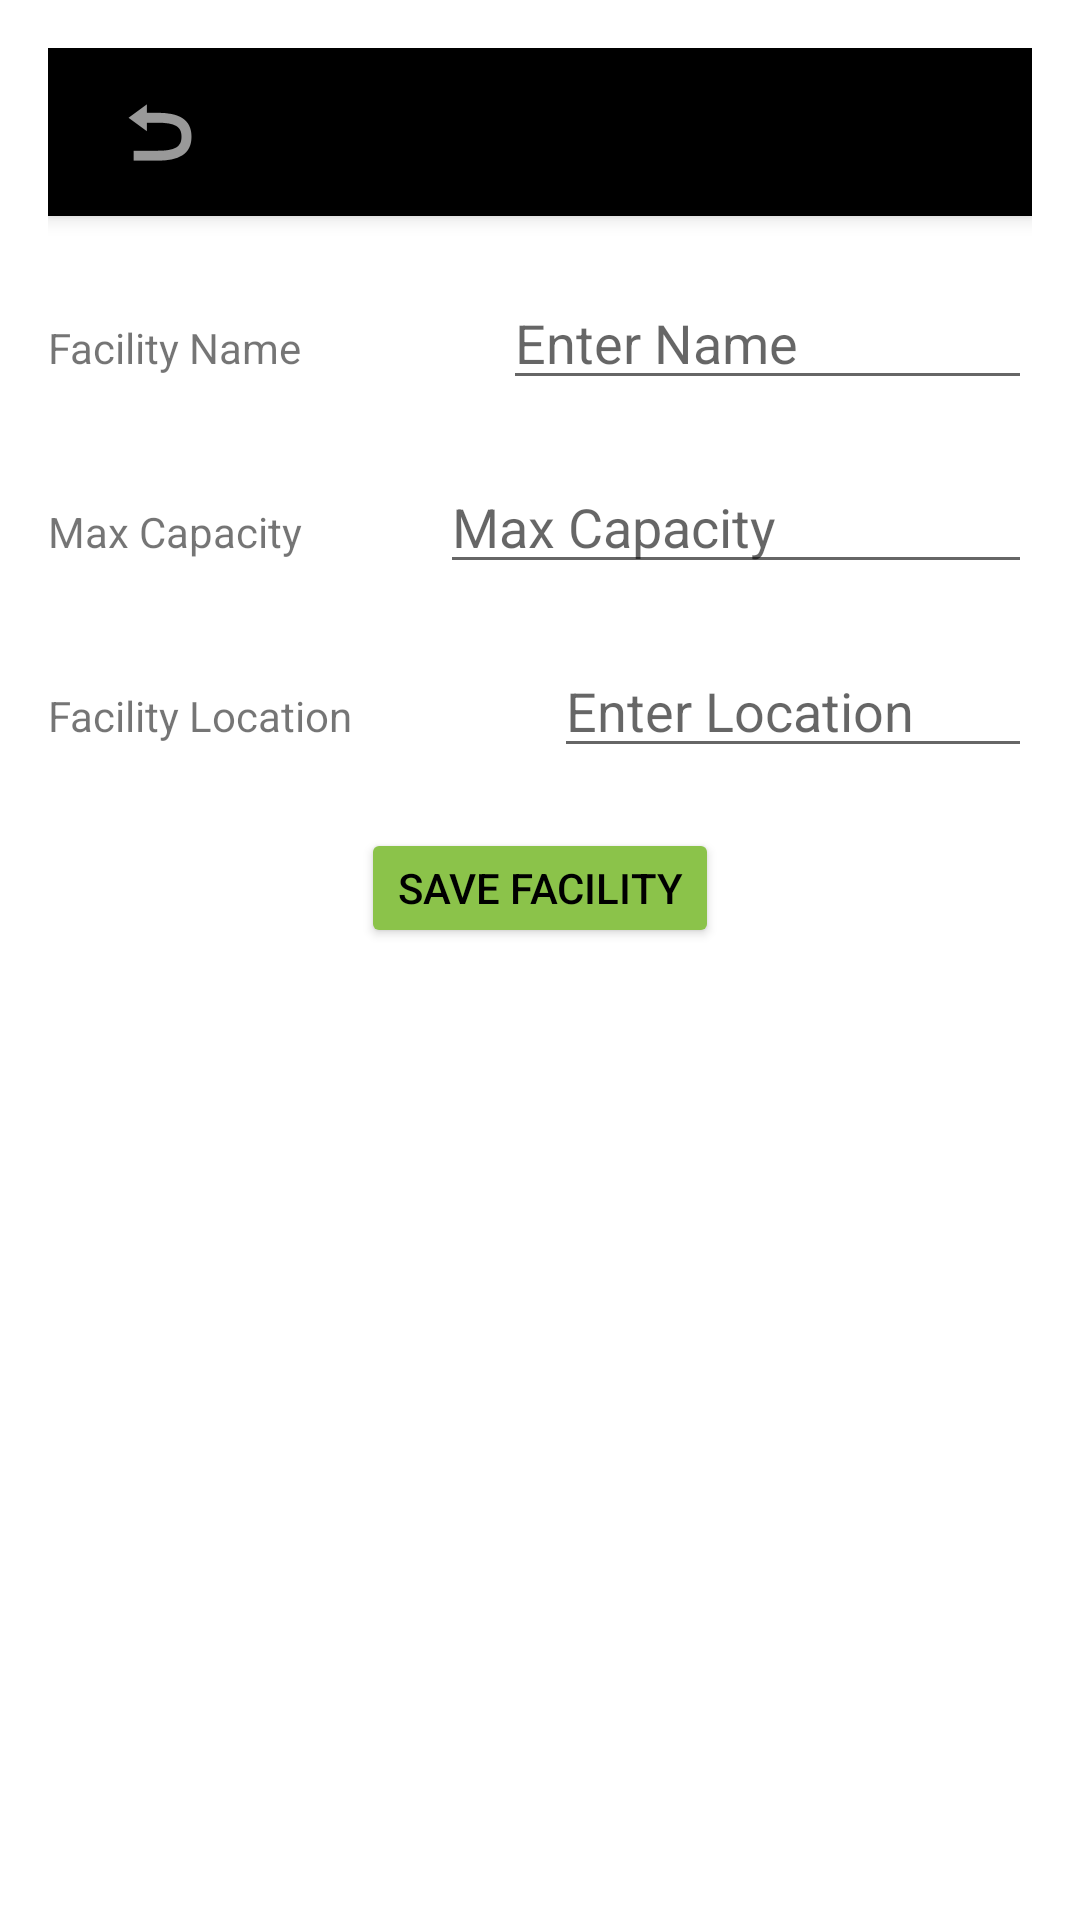

Icon bounding boxes for this 1080 x 1920 phone screenshot, format [x1,y1,x2,y2]:
Back: [129,104,192,161]
